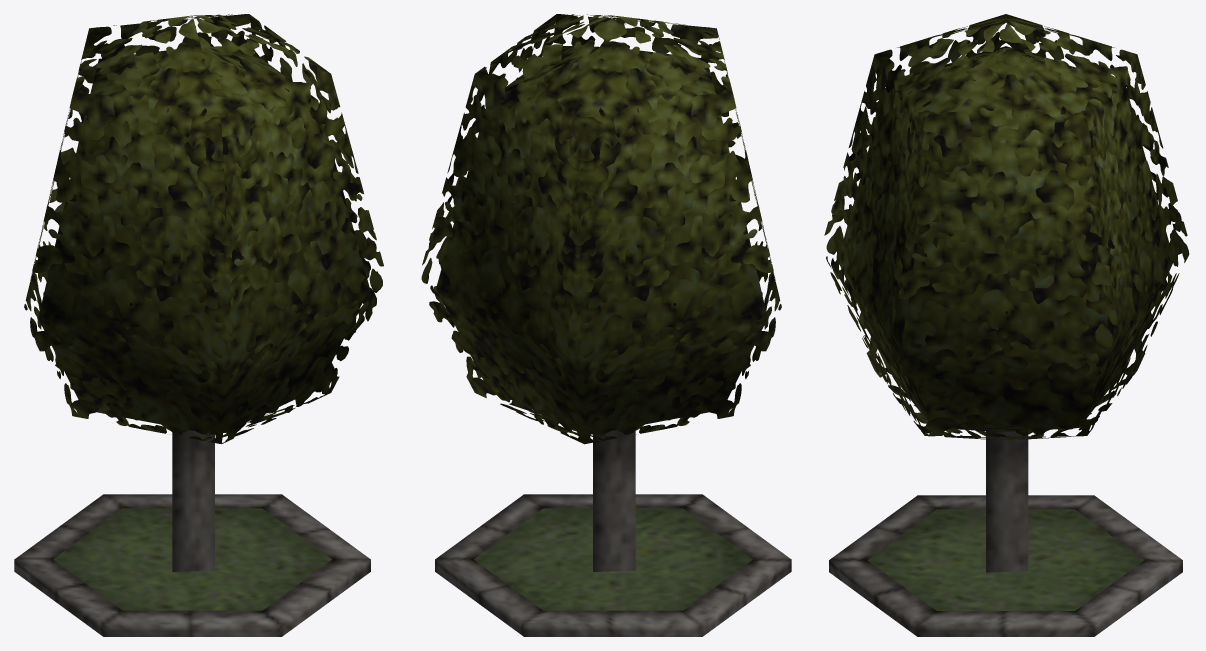
The model's file is tree.fbx.
3 views of the same model, side by side, from view 1: azimuth 30°, elevation 25°; view 2: azimuth 150°, elevation 25°; view 3: azimuth 270°, elevation 25° (orthographic).
Visible parts, largest first — view 1: tree; view 2: tree; view 3: tree.
Boxes of the visible parts, box(x1,y1,x2,y2) form: tree: box(14, 14, 383, 636); tree: box(421, 14, 791, 636); tree: box(824, 14, 1189, 636).
Size of the model in its own units: 200 by 210 by 344.
Materials: 1 (1 with a texture image).
